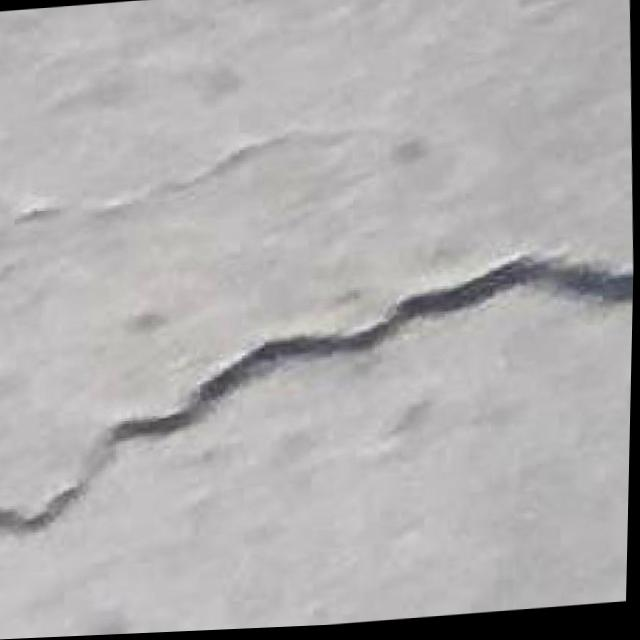Crack: (0, 252, 635, 545)
